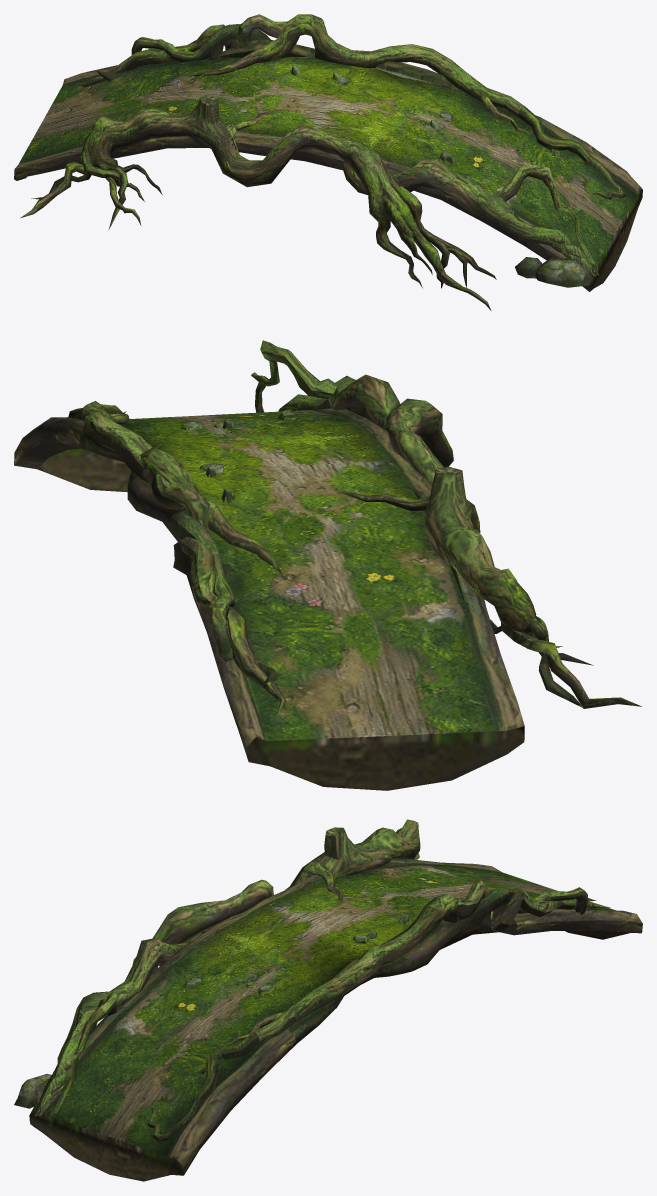
The model's file is 4002_Item_shuqiao_1.FBX.
3 views of the same model, one above another, from view 1: azimuth 30°, elevation 25°; view 2: azimuth 150°, elevation 25°; view 3: azimuth 270°, elevation 25° (orthographic). The views are drawn at different scales.
Visible parts, largest first — view 1: 4002_Item_shuqiao_1; view 2: 4002_Item_shuqiao_1; view 3: 4002_Item_shuqiao_1.
Boxes of the visible parts, <box> form: 4002_Item_shuqiao_1: <box>14,14,642,310</box>; 4002_Item_shuqiao_1: <box>14,340,641,790</box>; 4002_Item_shuqiao_1: <box>14,819,642,1181</box>.
Bounding box in the file's own units: 1438 × 470 × 1361.
